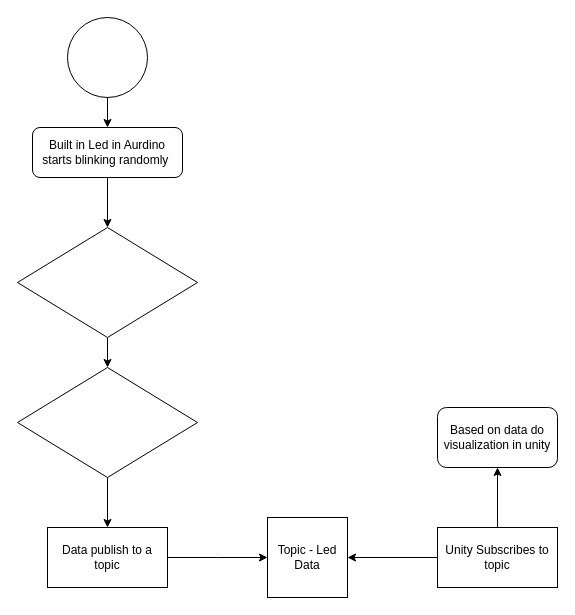
The diagram is 575 pixels wide and 615 high, and some of its shapes have lost their labels. Each missing label, with the centre of its shape:
Send Led State to IoT Hub: point 107,282
Send Led State to Kafka: point 107,422
Start: point 107,57
